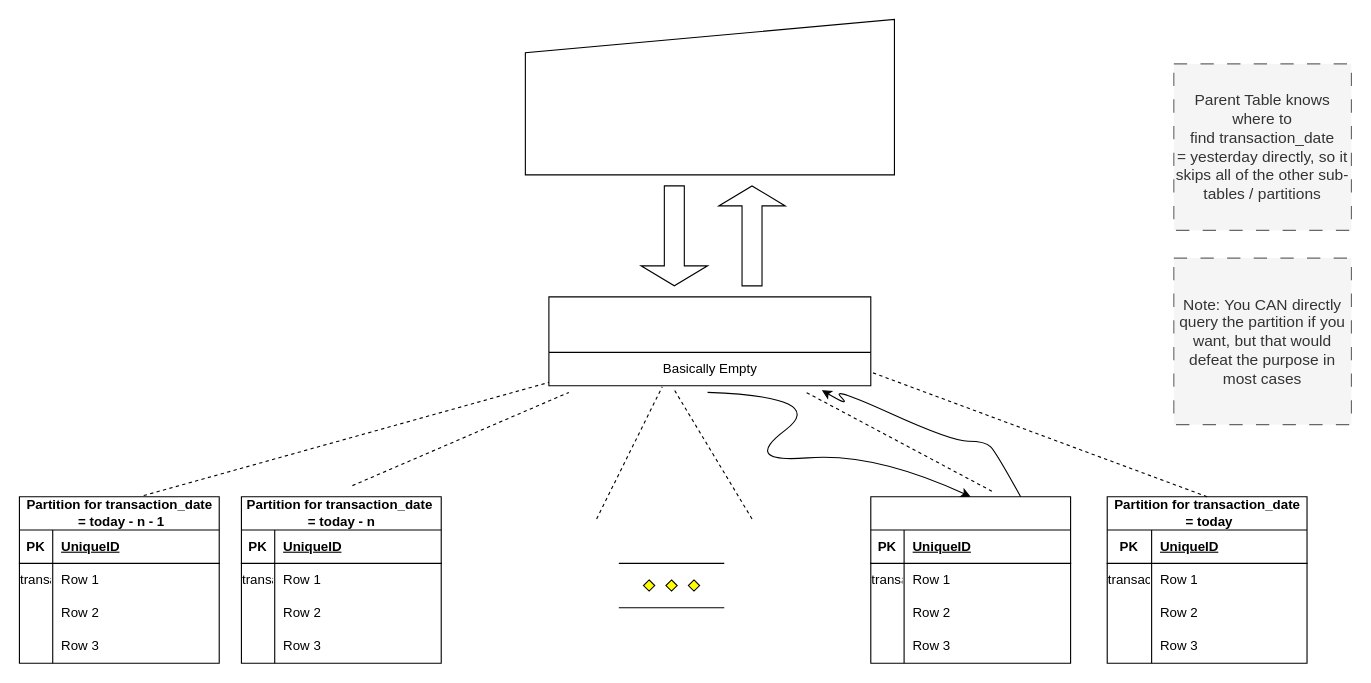
Some shapes in this 1371 by 683 pixel diagram are drawn without their labels. Each missing label, with the box of its shape:
customer_transactions: (548, 296, 871, 386)
Partition for transaction_date = yesterday: (870, 496, 1071, 663)
SELECT field(s) FROM customer_transactions WHERE transaction_date >= yesterday;: (524, 18, 894, 175)
